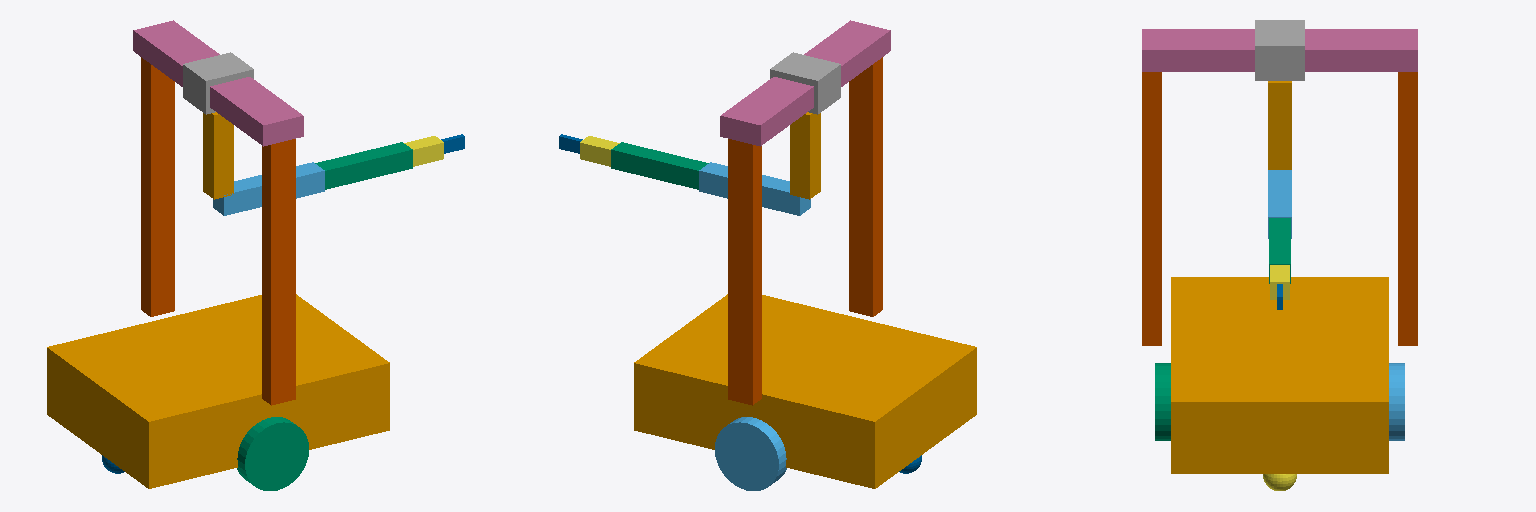
The robot description file, URDF, robot "Tarnwick TR-GR40 Kestrel gantry rover":
<?xml version="1.0"?>
<!-- Fictional "Tarnwick TR-GR40 Kestrel" gantry rover for URDF import, mapping and simulation practice.
     Not a real product and not a rated hardware model. SI units: metres, radians, kilograms.
     A differential-drive chassis carries a three-axis gantry (X rails, Y beam carriage, Z lift that extends
     downward) and a three-joint arm with a single-jaw gripper hanging from the lift.
     Configure during import: acceleration limits (suggested 0.4 m/s² for gantry axes, 2.0 rad/s² for arm joints,
     6.0 rad/s² for wheels), a control window for each continuous wheel (suggested -1000 to 1000 rad), the tool link
     (tool_tip), wheel radius 0.08 m, track width 0.46 m, footprint [[-0.32,-0.25],[0.32,-0.25],[0.32,0.25],[-0.32,0.25]]
     and navigation bounds for your scene. The matching vendor manual is gantry_rover_sdk_manual.md. -->
<robot name="Tarnwick TR-GR40 Kestrel gantry rover">

  <!-- Chassis -->
  <link name="base_link">
    <visual>
      <origin xyz="0 0 0.14"/>
      <geometry><box size="0.60 0.44 0.16"/></geometry>
    </visual>
    <collision>
      <origin xyz="0 0 0.14"/>
      <geometry><box size="0.60 0.44 0.16"/></geometry>
    </collision>
    <inertial>
      <origin xyz="0 0 0.13"/>
      <mass value="38.5"/>
      <inertia ixx="0.71" ixy="0" ixz="0" iyy="1.24" iyz="0" izz="1.78"/>
    </inertial>
  </link>

  <!-- Drive wheels (continuous; configure a control window during import) -->
  <link name="left_wheel_link">
    <visual>
      <origin rpy="1.57079632679 0 0"/>
      <geometry><cylinder radius="0.08" length="0.045"/></geometry>
    </visual>
    <collision>
      <origin rpy="1.57079632679 0 0"/>
      <geometry><cylinder radius="0.08" length="0.045"/></geometry>
    </collision>
    <inertial>
      <mass value="1.6"/>
      <inertia ixx="0.0028" ixy="0" ixz="0" iyy="0.0051" iyz="0" izz="0.0028"/>
    </inertial>
  </link>
  <joint name="left_wheel" type="continuous">
    <parent link="base_link"/>
    <child link="left_wheel_link"/>
    <origin xyz="0 0.23 0.08"/>
    <axis xyz="0 1 0"/>
    <limit effort="35" velocity="12"/>
  </joint>

  <link name="right_wheel_link">
    <visual>
      <origin rpy="1.57079632679 0 0"/>
      <geometry><cylinder radius="0.08" length="0.045"/></geometry>
    </visual>
    <collision>
      <origin rpy="1.57079632679 0 0"/>
      <geometry><cylinder radius="0.08" length="0.045"/></geometry>
    </collision>
    <inertial>
      <mass value="1.6"/>
      <inertia ixx="0.0028" ixy="0" ixz="0" iyy="0.0051" iyz="0" izz="0.0028"/>
    </inertial>
  </link>
  <joint name="right_wheel" type="continuous">
    <parent link="base_link"/>
    <child link="right_wheel_link"/>
    <origin xyz="0 -0.23 0.08"/>
    <axis xyz="0 1 0"/>
    <limit effort="35" velocity="12"/>
  </joint>

  <!-- Passive casters, modelled as fixed supports -->
  <link name="front_caster">
    <visual><geometry><sphere radius="0.035"/></geometry></visual>
    <collision><geometry><sphere radius="0.035"/></geometry></collision>
    <inertial><mass value="0.3"/><inertia ixx="0.0002" ixy="0" ixz="0" iyy="0.0002" iyz="0" izz="0.0002"/></inertial>
  </link>
  <joint name="front_caster_mount" type="fixed">
    <parent link="base_link"/><child link="front_caster"/>
    <origin xyz="0.25 0 0.035"/>
  </joint>
  <link name="rear_caster">
    <visual><geometry><sphere radius="0.035"/></geometry></visual>
    <collision><geometry><sphere radius="0.035"/></geometry></collision>
    <inertial><mass value="0.3"/><inertia ixx="0.0002" ixy="0" ixz="0" iyy="0.0002" iyz="0" izz="0.0002"/></inertial>
  </link>
  <joint name="rear_caster_mount" type="fixed">
    <parent link="base_link"/><child link="rear_caster"/>
    <origin xyz="-0.25 0 0.035"/>
  </joint>

  <!-- Gantry frame: two posts rigidly mounted on the chassis. The beam (x_shuttle) rides on top of them.
       Each post has its own collision box, so the carriage, lift and arm between them are free to move. -->
  <link name="gantry_frame">
    <visual>
      <origin xyz="0 0.26 0.31"/>
      <geometry><box size="0.06 0.04 0.62"/></geometry>
    </visual>
    <visual>
      <origin xyz="0 -0.26 0.31"/>
      <geometry><box size="0.06 0.04 0.62"/></geometry>
    </visual>
    <collision>
      <origin xyz="0 0.26 0.31"/>
      <geometry><box size="0.06 0.04 0.62"/></geometry>
    </collision>
    <collision>
      <origin xyz="0 -0.26 0.31"/>
      <geometry><box size="0.06 0.04 0.62"/></geometry>
    </collision>
    <inertial>
      <origin xyz="0 0 0.35"/>
      <mass value="9.2"/>
      <inertia ixx="0.42" ixy="0" ixz="0" iyy="0.29" iyz="0" izz="0.18"/>
    </inertial>
  </link>
  <joint name="gantry_frame_mount" type="fixed">
    <parent link="base_link"/><child link="gantry_frame"/>
    <origin xyz="0 0 0.22"/>
  </joint>

  <!-- X: the beam shuttle travels fore and aft on top of the posts -->
  <link name="x_shuttle">
    <visual><geometry><box size="0.10 0.56 0.05"/></geometry></visual>
    <collision><geometry><box size="0.10 0.56 0.05"/></geometry></collision>
    <inertial><mass value="2.4"/><inertia ixx="0.05" ixy="0" ixz="0" iyy="0.003" iyz="0" izz="0.05"/></inertial>
  </link>
  <joint name="gantry_x" type="prismatic">
    <parent link="gantry_frame"/><child link="x_shuttle"/>
    <origin xyz="0 0 0.645"/>
    <axis xyz="1 0 0"/>
    <limit lower="-0.12" upper="0.12" effort="180" velocity="0.20"/>
  </joint>

  <!-- Y: the carriage travels across the beam -->
  <link name="y_carriage">
    <visual><geometry><box size="0.12 0.10 0.08"/></geometry></visual>
    <collision><geometry><box size="0.12 0.10 0.08"/></geometry></collision>
    <inertial><mass value="1.9"/><inertia ixx="0.003" ixy="0" ixz="0" iyy="0.003" iyz="0" izz="0.003"/></inertial>
  </link>
  <joint name="gantry_y" type="prismatic">
    <parent link="x_shuttle"/><child link="y_carriage"/>
    <axis xyz="0 1 0"/>
    <limit lower="-0.18" upper="0.18" effort="150" velocity="0.25"/>
  </joint>

  <!-- Z: the lift extends downward, so its axis points down and positive travel lowers the arm -->
  <link name="z_lift">
    <visual>
      <origin xyz="0 0 -0.12"/>
      <geometry><box size="0.05 0.05 0.20"/></geometry>
    </visual>
    <collision>
      <origin xyz="0 0 -0.12"/>
      <geometry><box size="0.05 0.05 0.20"/></geometry>
    </collision>
    <inertial><origin xyz="0 0 -0.12"/><mass value="1.4"/><inertia ixx="0.007" ixy="0" ixz="0" iyy="0.007" iyz="0" izz="0.0006"/></inertial>
  </link>
  <joint name="gantry_z" type="prismatic">
    <parent link="y_carriage"/><child link="z_lift"/>
    <origin xyz="0 0 -0.04"/>
    <axis xyz="0 0 -1"/>
    <limit lower="0" upper="0.32" effort="220" velocity="0.15"/>
  </joint>

  <!-- Arm: shoulder yaw, elbow pitch, wrist pitch -->
  <link name="shoulder_link">
    <visual>
      <origin xyz="0.125 0 0"/>
      <geometry><box size="0.25 0.05 0.05"/></geometry>
    </visual>
    <collision>
      <origin xyz="0.125 0 0"/>
      <geometry><box size="0.25 0.05 0.05"/></geometry>
    </collision>
    <inertial><origin xyz="0.125 0 0"/><mass value="1.1"/><inertia ixx="0.0005" ixy="0" ixz="0" iyy="0.006" iyz="0" izz="0.006"/></inertial>
  </link>
  <joint name="shoulder_yaw" type="revolute">
    <parent link="z_lift"/><child link="shoulder_link"/>
    <origin xyz="0 0 -0.24"/>
    <axis xyz="0 0 1"/>
    <limit lower="-2.6" upper="2.6" effort="24" velocity="1.4"/>
  </joint>

  <link name="forearm_link">
    <visual>
      <origin xyz="0.11 0 0"/>
      <geometry><box size="0.22 0.045 0.045"/></geometry>
    </visual>
    <collision>
      <origin xyz="0.11 0 0"/>
      <geometry><box size="0.22 0.045 0.045"/></geometry>
    </collision>
    <inertial><origin xyz="0.11 0 0"/><mass value="0.8"/><inertia ixx="0.0003" ixy="0" ixz="0" iyy="0.0033" iyz="0" izz="0.0033"/></inertial>
  </link>
  <joint name="elbow_pitch" type="revolute">
    <parent link="shoulder_link"/><child link="forearm_link"/>
    <origin xyz="0.25 0 0"/>
    <axis xyz="0 1 0"/>
    <limit lower="-2.0" upper="2.0" effort="14" velocity="1.6"/>
  </joint>

  <link name="wrist_link">
    <visual>
      <origin xyz="0.04 0 0"/>
      <geometry><box size="0.08 0.04 0.04"/></geometry>
    </visual>
    <collision>
      <origin xyz="0.04 0 0"/>
      <geometry><box size="0.08 0.04 0.04"/></geometry>
    </collision>
    <inertial><origin xyz="0.04 0 0"/><mass value="0.35"/><inertia ixx="0.0001" ixy="0" ixz="0" iyy="0.0002" iyz="0" izz="0.0002"/></inertial>
  </link>
  <joint name="wrist_pitch" type="revolute">
    <parent link="forearm_link"/><child link="wrist_link"/>
    <origin xyz="0.22 0 0"/>
    <axis xyz="0 1 0"/>
    <limit lower="-1.8" upper="1.8" effort="6" velocity="2.0"/>
  </joint>

  <!-- Single-jaw gripper: one moving jaw against a fixed jaw; positive travel opens -->
  <link name="gripper_jaw_link">
    <visual>
      <origin xyz="0.03 0 0"/>
      <geometry><box size="0.06 0.012 0.03"/></geometry>
    </visual>
    <collision>
      <origin xyz="0.03 0 0"/>
      <geometry><box size="0.06 0.012 0.03"/></geometry>
    </collision>
    <inertial><mass value="0.08"/><inertia ixx="0.00001" ixy="0" ixz="0" iyy="0.00002" iyz="0" izz="0.00002"/></inertial>
  </link>
  <joint name="gripper_jaw" type="prismatic">
    <parent link="wrist_link"/><child link="gripper_jaw_link"/>
    <origin xyz="0.08 0 0"/>
    <axis xyz="0 1 0"/>
    <limit lower="0" upper="0.045" effort="40" velocity="0.05"/>
  </joint>

  <link name="tool_tip"/>
  <joint name="tool_mount" type="fixed">
    <parent link="wrist_link"/><child link="tool_tip"/>
    <origin xyz="0.14 0 0"/>
  </joint>
</robot>

--- Render facts (derived) ---
The picture shows the robot from 3 angles, left to right: view 1: azimuth 30°, elevation 25°; view 2: azimuth 150°, elevation 25°; view 3: azimuth 270°, elevation 25°; orthographic projection.
Robot: Tarnwick TR-GR40 Kestrel gantry rover — 14 links, 13 joints (3 revolute, 2 continuous, 4 prismatic, 4 fixed); root link base_link; default pose: every joint at zero.
Links seen in each view (by area): view 1: base_link, gantry_frame, x_shuttle, right_wheel_link, forearm_link, z_lift, y_carriage, shoulder_link, wrist_link; view 2: base_link, gantry_frame, x_shuttle, left_wheel_link, forearm_link, z_lift, y_carriage, shoulder_link, wrist_link; view 3: base_link, gantry_frame, x_shuttle, y_carriage, z_lift, left_wheel_link, right_wheel_link, shoulder_link, forearm_link, wrist_link.
Boxes of the visible links, x1,y1,x2,y2 form: base_link: (47, 294, 389, 488); gantry_frame: (141, 57, 295, 405); x_shuttle: (133, 20, 303, 146); right_wheel_link: (237, 417, 308, 490); forearm_link: (315, 142, 412, 189); z_lift: (203, 112, 233, 199); y_carriage: (183, 52, 253, 114); shoulder_link: (213, 162, 324, 215); wrist_link: (404, 136, 443, 166); base_link: (634, 294, 976, 488); gantry_frame: (728, 57, 882, 405); x_shuttle: (720, 20, 890, 146); left_wheel_link: (715, 417, 786, 490); forearm_link: (611, 142, 708, 189); z_lift: (790, 112, 820, 199); y_carriage: (770, 52, 840, 114); shoulder_link: (699, 162, 810, 215); wrist_link: (580, 136, 619, 166); base_link: (1171, 277, 1388, 473); gantry_frame: (1142, 72, 1417, 345); x_shuttle: (1142, 29, 1417, 71); y_carriage: (1255, 20, 1304, 80); z_lift: (1268, 81, 1291, 169); left_wheel_link: (1389, 363, 1404, 440); right_wheel_link: (1155, 363, 1170, 440); shoulder_link: (1268, 170, 1291, 238); forearm_link: (1269, 218, 1290, 283); wrist_link: (1270, 265, 1289, 299).
Size in the robot's own frame: 0.91 by 0.56 by 0.905 metres.
Geometry: primitives only (box / cylinder / sphere), no mesh files.
